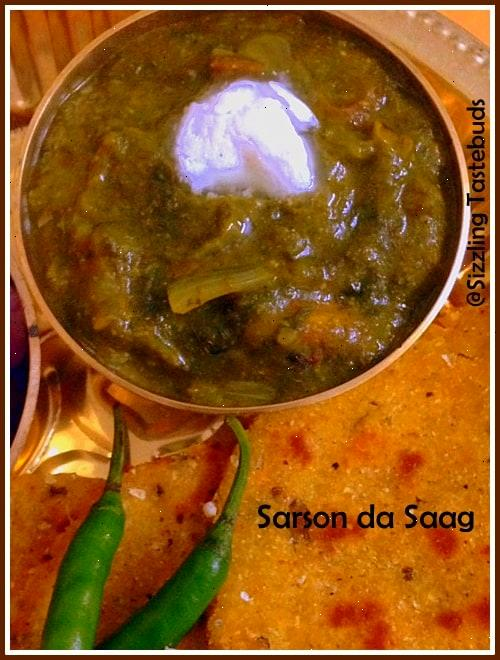saag: (29, 2, 459, 394)
